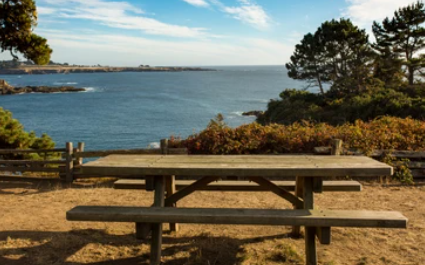obstacle: (67, 150, 408, 264)
